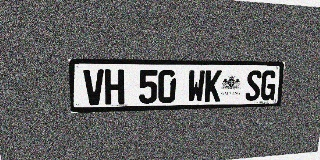0: (158, 70, 176, 103)
5: (139, 70, 158, 104)
G: (260, 70, 277, 100)
H: (104, 69, 124, 105)
K: (204, 70, 222, 102)
S: (245, 70, 262, 101)
V: (83, 69, 104, 105)
W: (187, 70, 205, 102)
